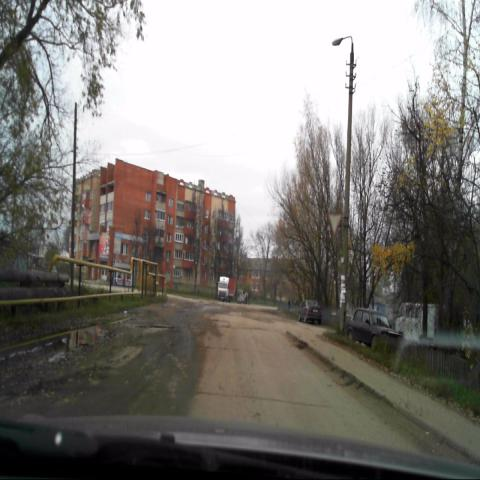2_4: (326, 212, 342, 237)
